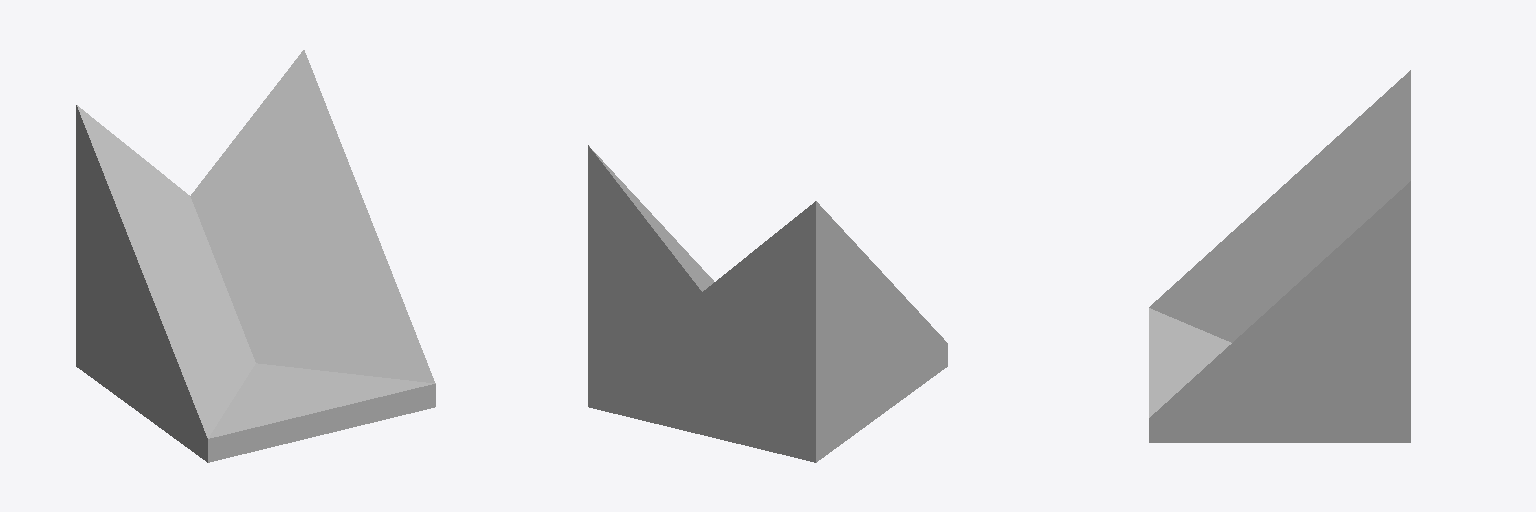
3 views of the same model, side by side, from view 1: azimuth 30°, elevation 25°; view 2: azimuth 150°, elevation 25°; view 3: azimuth 270°, elevation 25° (orthographic).
Visible parts, largest first — view 1: cube2; view 2: cube2; view 3: cube2.
Part boxes in pixels (x1,y1,x2,y2): cube2: (76, 50, 435, 462); cube2: (588, 145, 947, 462); cube2: (1149, 70, 1410, 442).
Bounding box in the file's own units: 1 × 1.1 × 1.